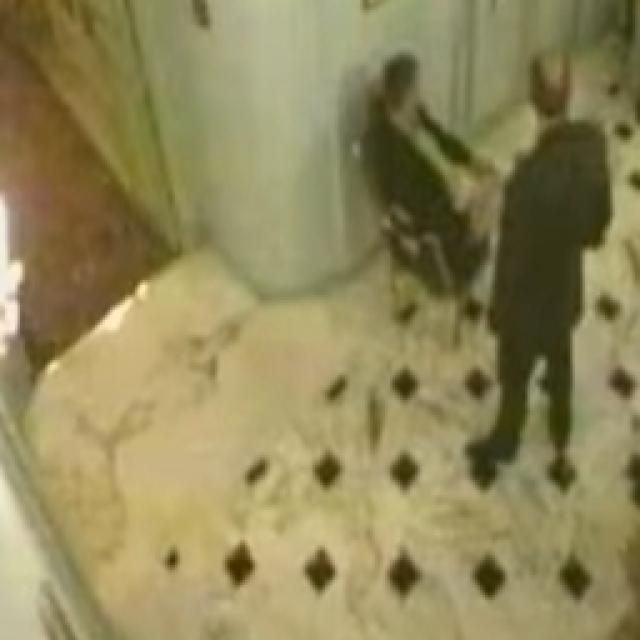person: (468, 55, 608, 480), (368, 50, 488, 282)
